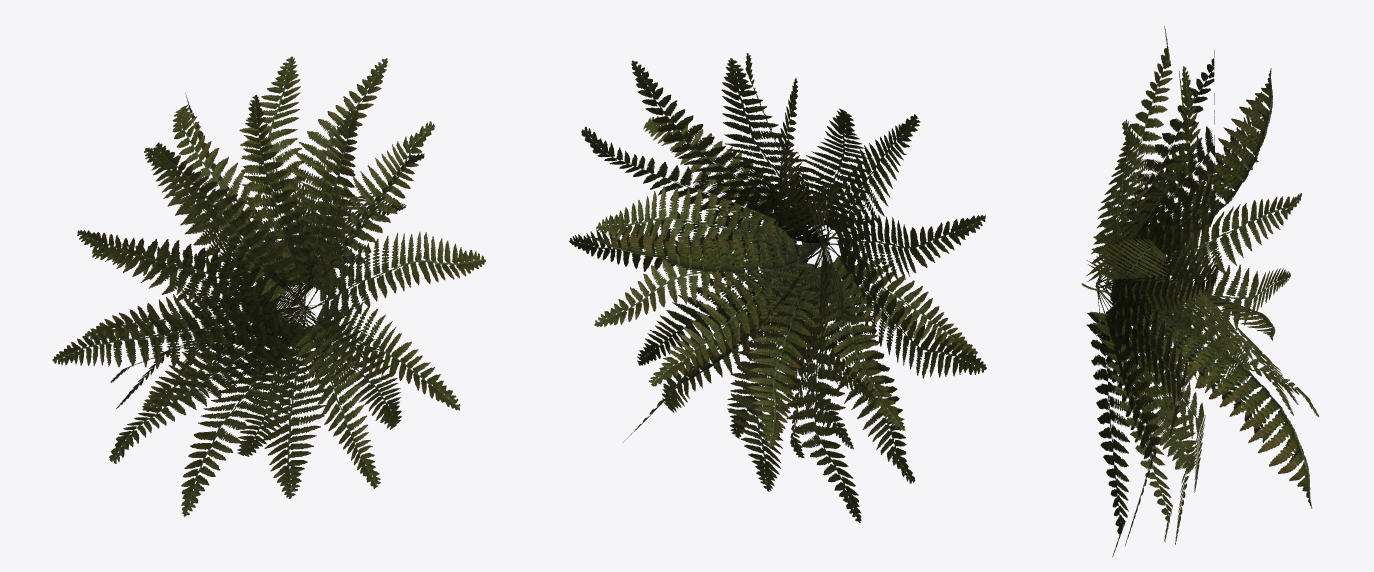
Rendered from MEP_Fern_04.fbx.
The picture shows the model from 3 angles, left to right: view 1: azimuth 30°, elevation 25°; view 2: azimuth 150°, elevation 25°; view 3: azimuth 270°, elevation 25°; orthographic projection. The views are drawn at different scales.
Parts seen in each view (by area): view 1: MEP_Fern_04; view 2: MEP_Fern_04; view 3: MEP_Fern_04.
Part boxes in pixels (x1=…): MEP_Fern_04: x1=52, y1=56, x2=485, y2=516; MEP_Fern_04: x1=569, y1=53, x2=986, y2=522; MEP_Fern_04: x1=1081, y1=26, x2=1319, y2=556.
Bounding box in the file's own units: 2.96 × 2.85 × 1.33.
